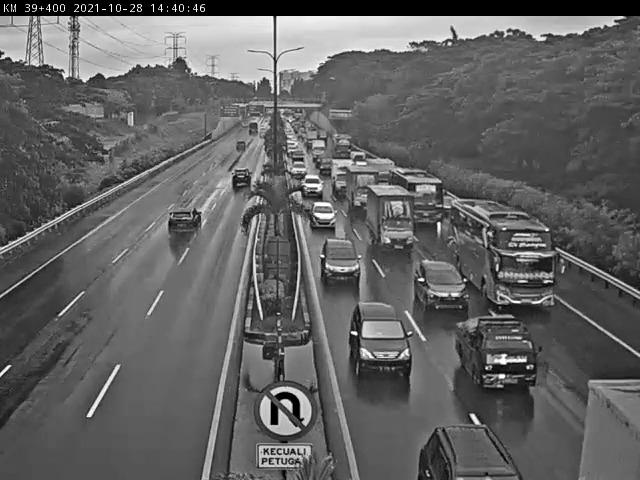big bus: (449, 196, 556, 312), (388, 165, 445, 227)
car: (454, 315, 539, 392), (348, 301, 414, 378), (414, 258, 471, 313), (319, 238, 360, 282), (309, 201, 337, 232)
mid truck: (365, 184, 417, 252), (166, 205, 204, 237)
